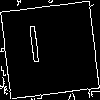I: (25, 25, 45, 73)
